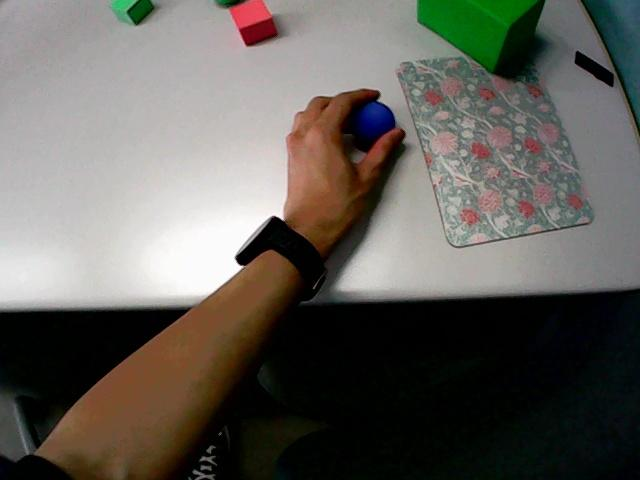red_block: (230, 0, 276, 44)
